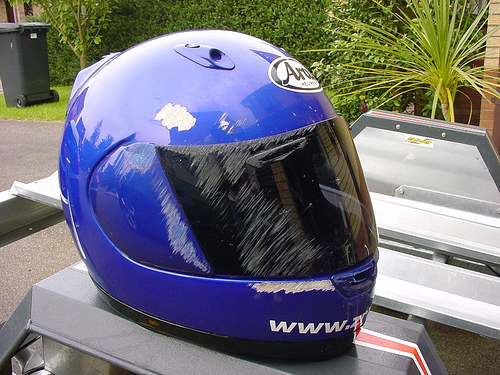helmet: (70, 40, 377, 330)
